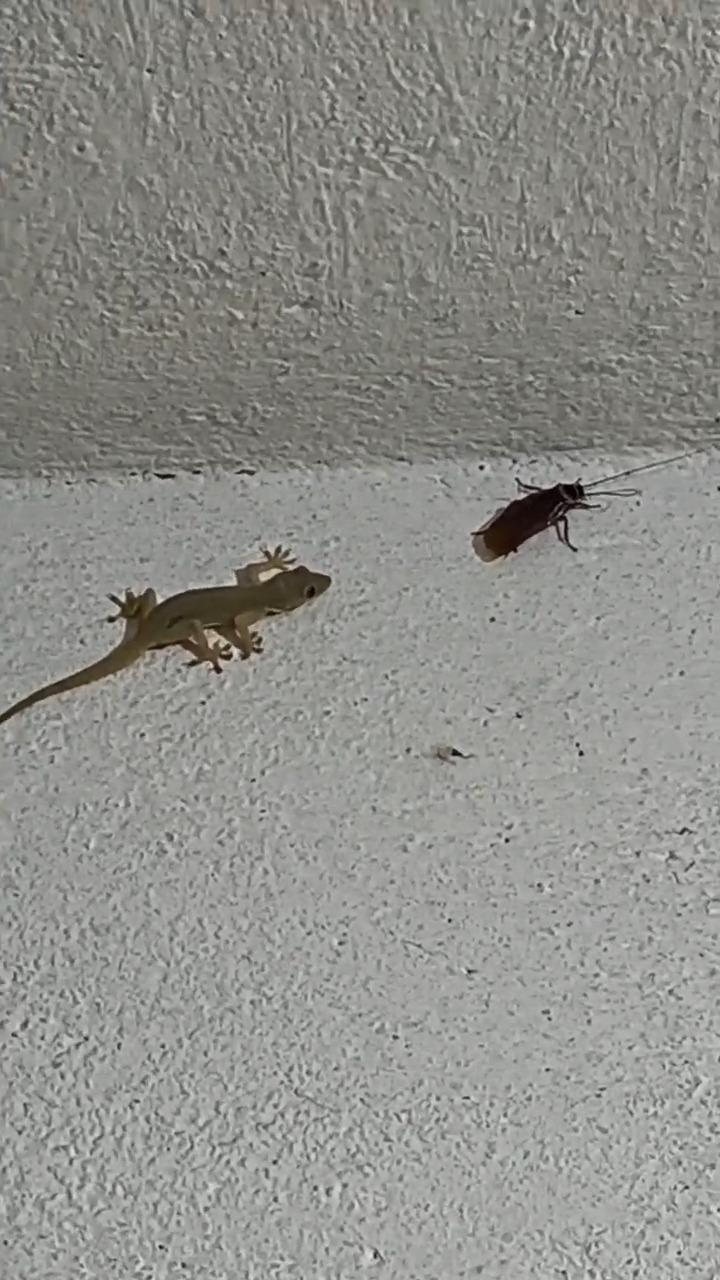cockroach: (450, 458, 655, 568)
lizard: (0, 523, 341, 744)
